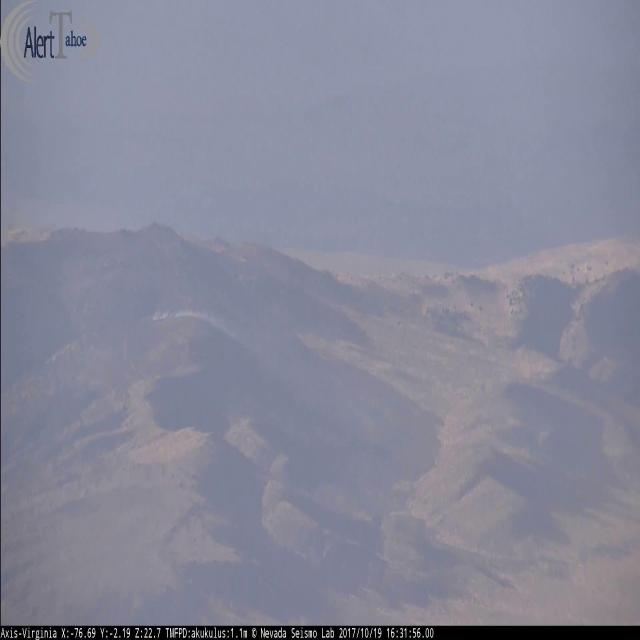smoke: (147, 305, 278, 356)
